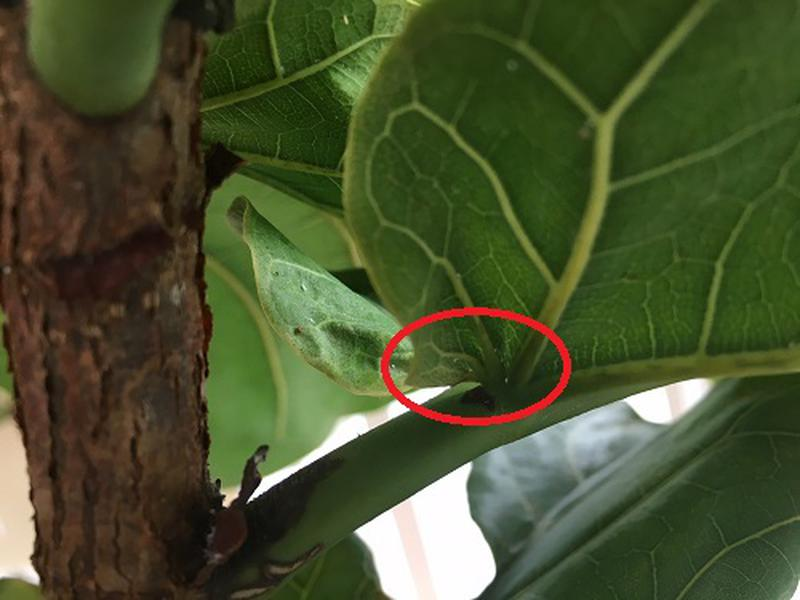Mealy_bug: (432, 340, 529, 394)
